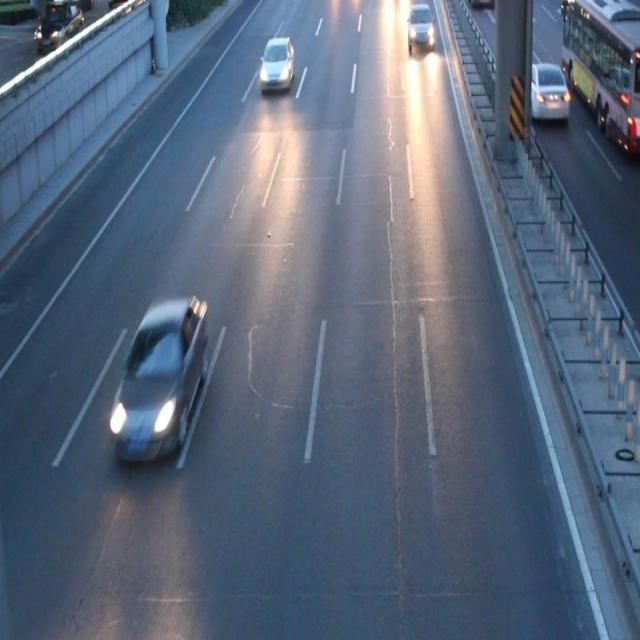car: (110, 298, 207, 449), (514, 62, 566, 120), (260, 36, 293, 88), (469, 1, 494, 10)
truck: (406, 1, 434, 46)
van: (560, 1, 640, 151)
